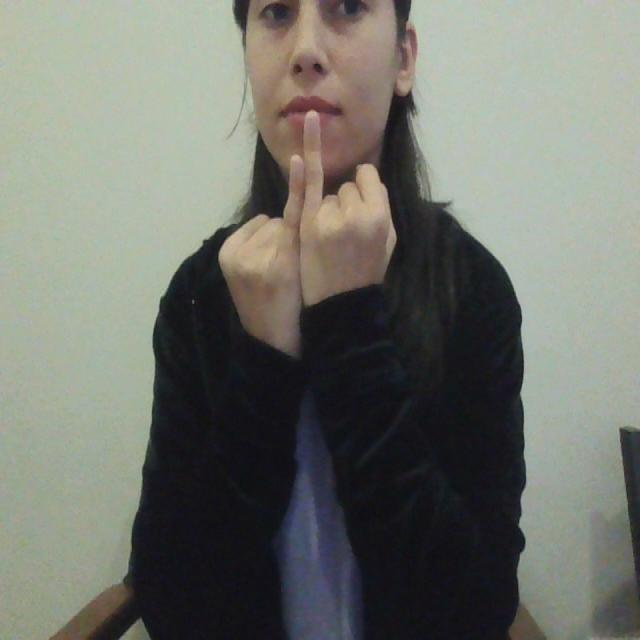Kardes: (215, 108, 401, 366)
